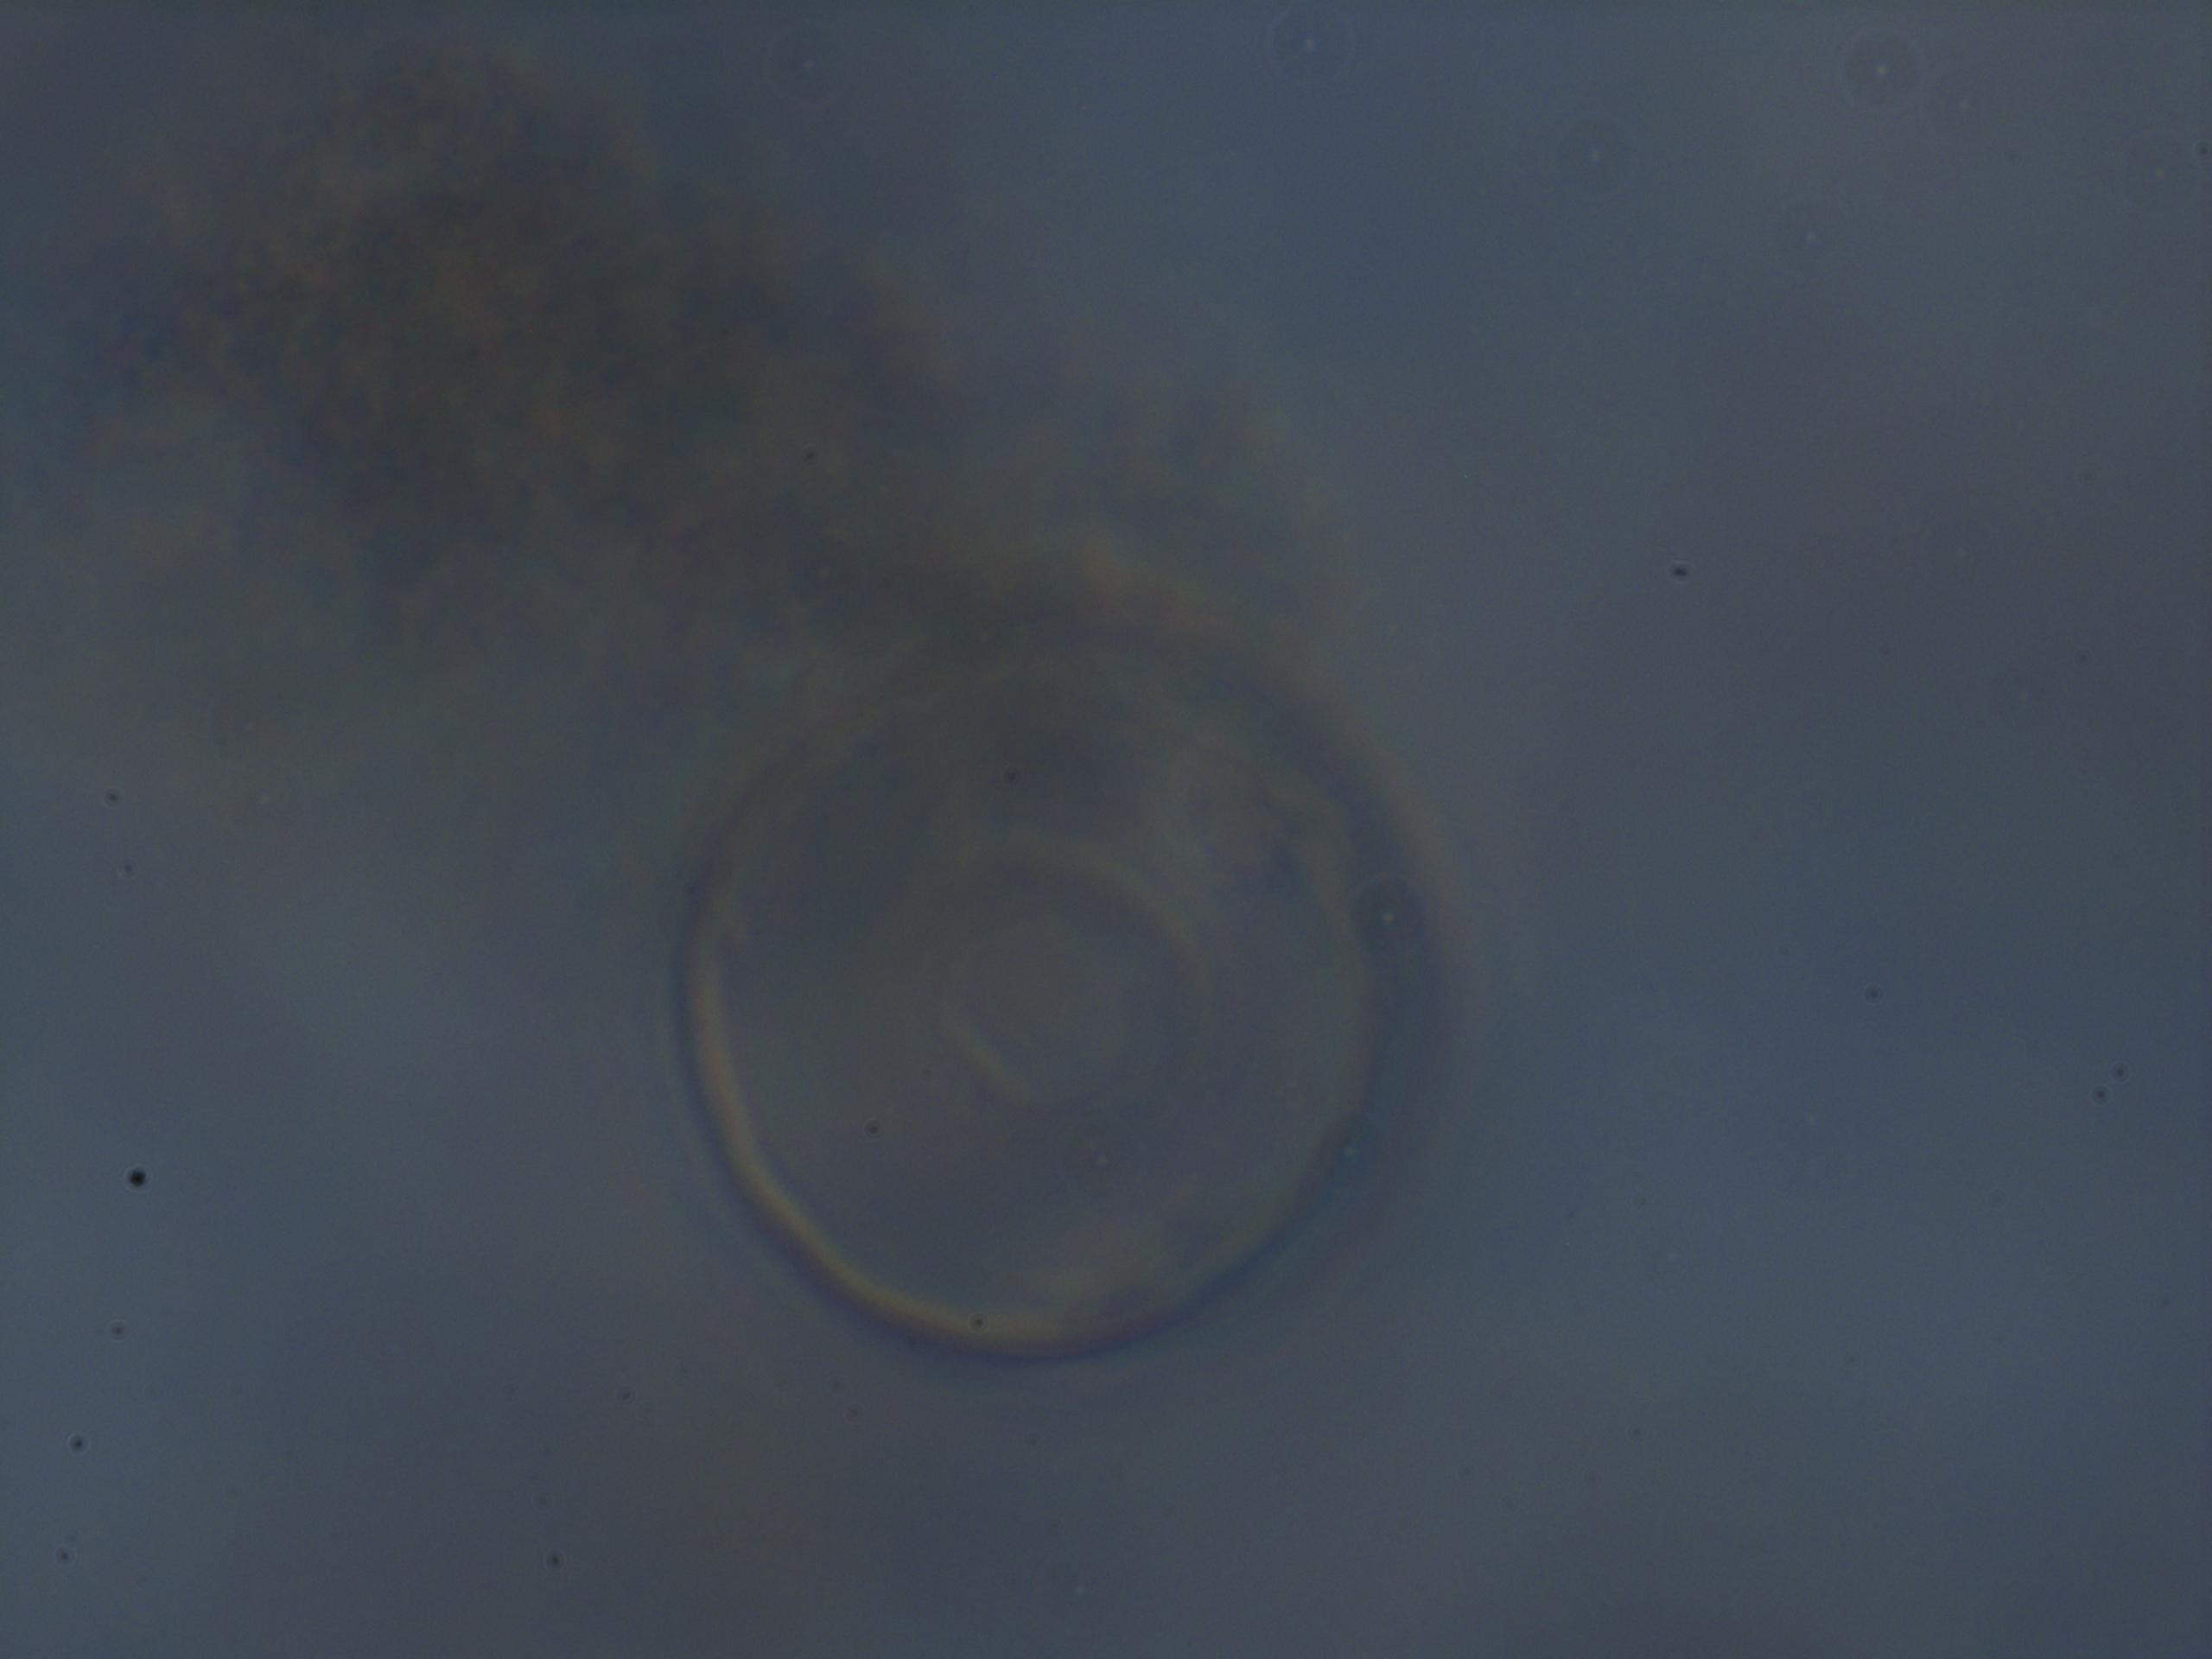protozoa: (660, 601, 1432, 1385)
